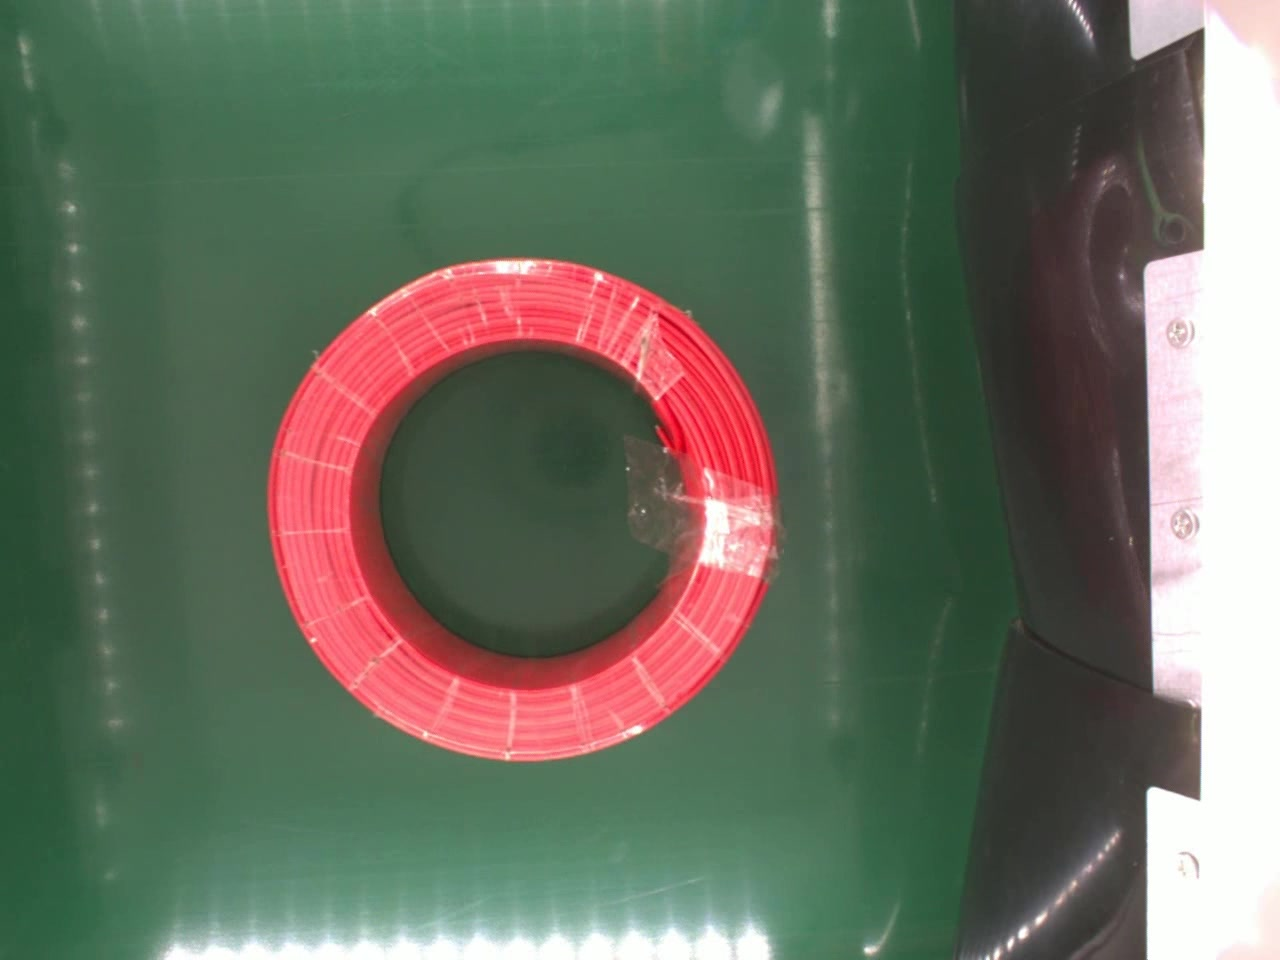red: (262, 256, 791, 781)
